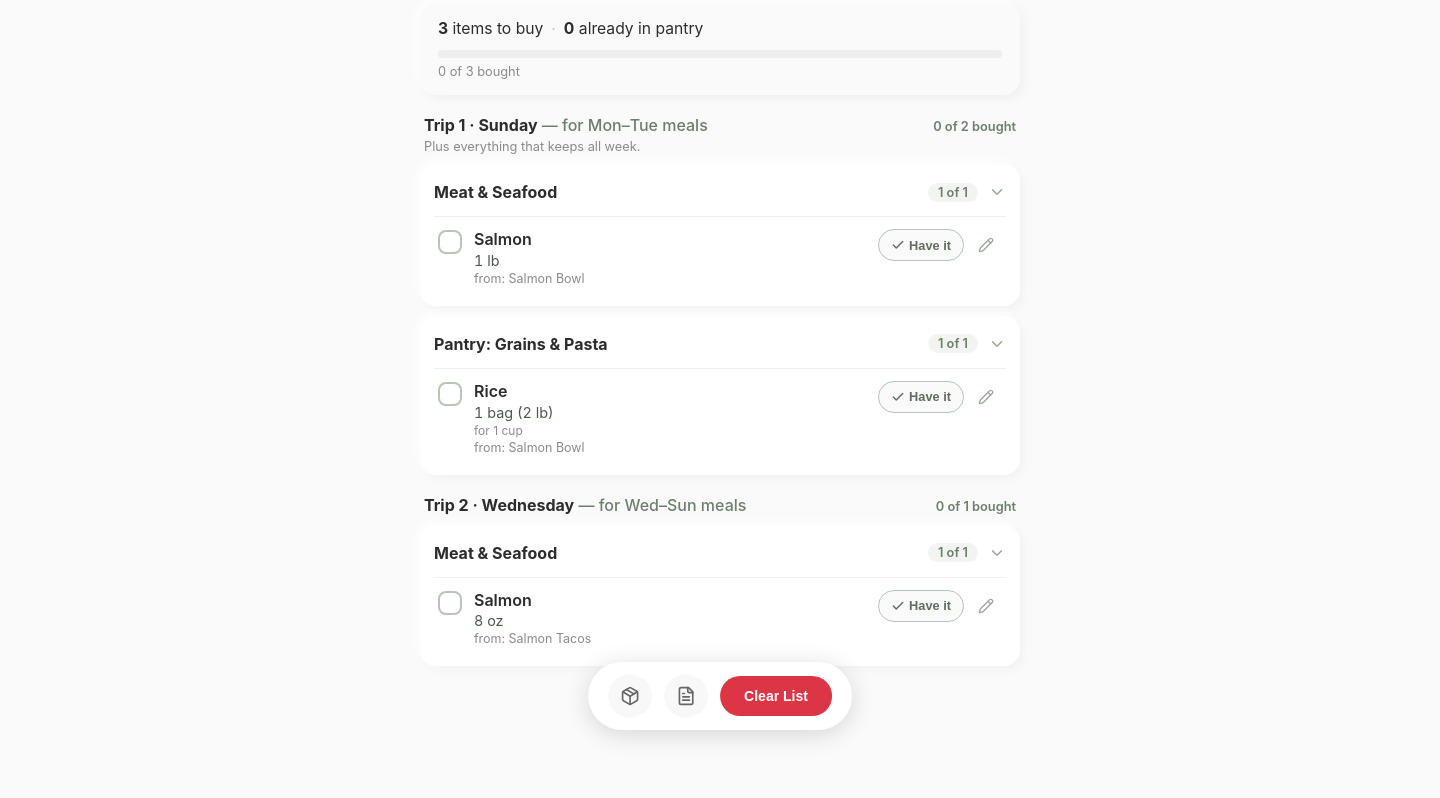
Test: ticking Friday's salmon does not tick Monday's, and records only that trip's amount
(page scrolled)
Click the checkbox named "Mark Salmon as bought" at (450, 603), box [438,591,462,615]
Wait 5000 ms
(page scrolled)
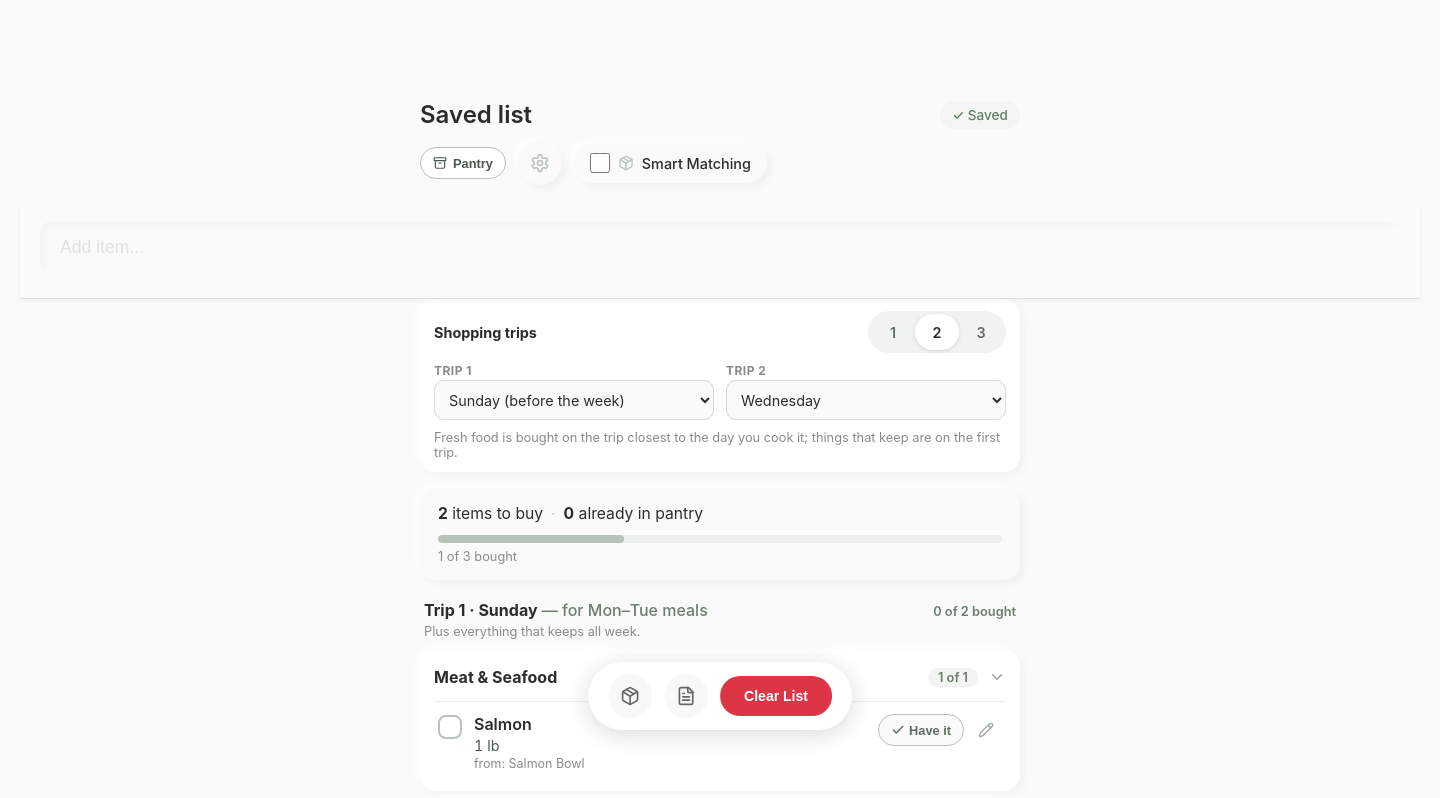
Expected: the checkbox named "Mark Salmon as bought" is not checked, [438,715,462,739]
Click the radio button named "1 trip a week" at (893, 332), box [871,314,915,350]
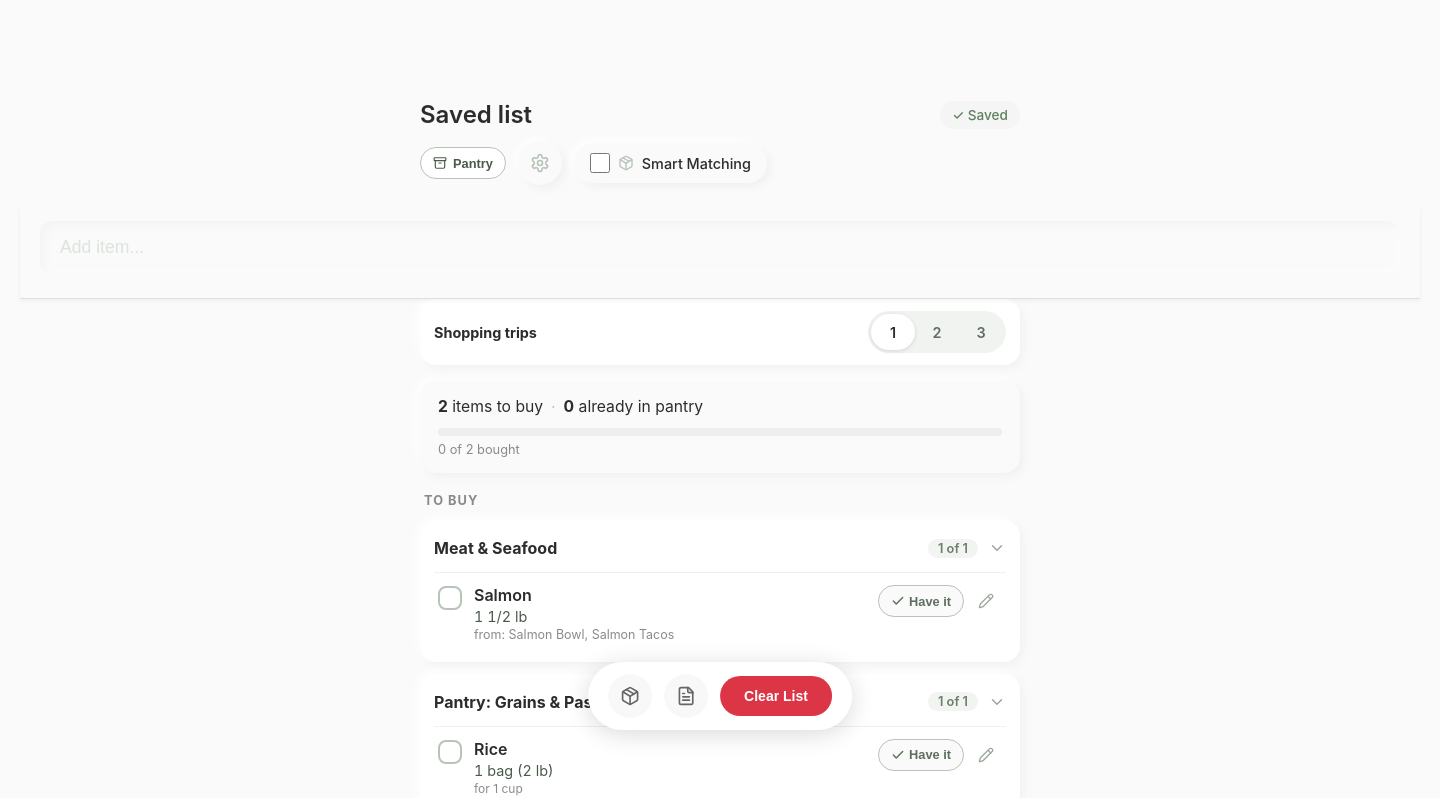
Result: the label "Trip 1" is gone
Result: the checkbox named "Mark Salmon as bought" is not checked at [438,586,462,610]
Click the radio button named "2 trips a week" at (937, 332), box [915,314,959,350]
(page scrolled)
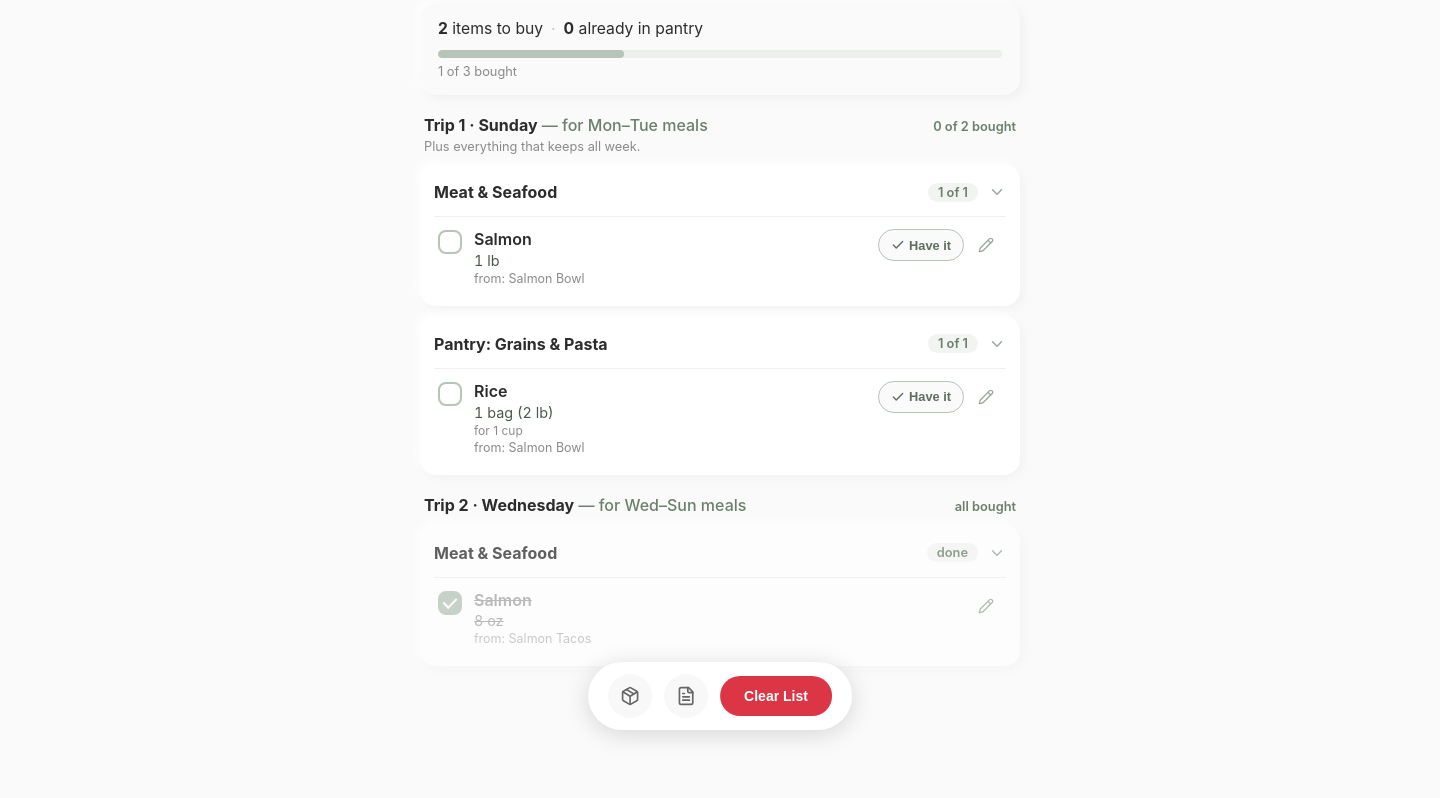
Result: the checkbox named "Unmark Salmon as bought" is checked at [438,591,462,615]
